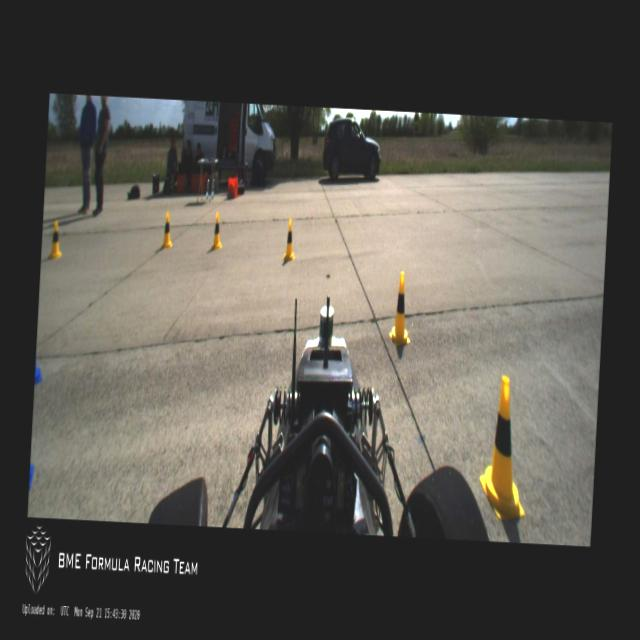yellow_cone: (477, 374, 532, 524), (388, 271, 414, 347), (48, 219, 64, 261), (282, 218, 296, 262), (211, 211, 224, 251), (162, 211, 174, 250)
